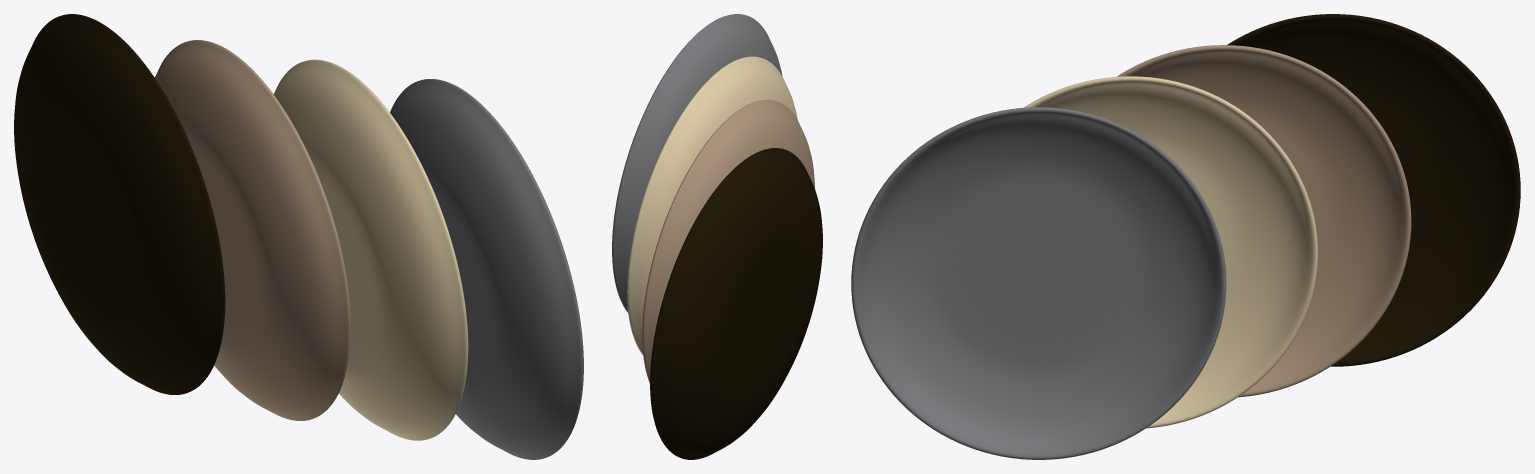
File: single-products-miveh-19.glb
The picture shows the model from 3 angles, left to right: view 1: azimuth 30°, elevation 25°; view 2: azimuth 150°, elevation 25°; view 3: azimuth 270°, elevation 25°; orthographic projection. The views are drawn at different scales.
Parts seen in each view (by area): view 1: Circle.003, Circle.002, Circle.004, Circle.001; view 2: Circle.003, Circle.004, Circle.001, Circle.002; view 3: Circle.001, Circle.003, Circle.002, Circle.004.
Boxes of the visible parts, <box> form: Circle.003: <box>14,14,225,394</box>; Circle.002: <box>154,40,350,420</box>; Circle.004: <box>273,59,468,440</box>; Circle.001: <box>390,79,583,459</box>; Circle.003: <box>650,148,822,459</box>; Circle.004: <box>627,56,797,355</box>; Circle.001: <box>612,14,782,312</box>; Circle.002: <box>642,99,814,383</box>; Circle.001: <box>851,107,1226,459</box>; Circle.003: <box>1227,14,1520,366</box>; Circle.002: <box>1117,45,1411,397</box>; Circle.004: <box>1024,76,1317,428</box>.
Size of the model in its own units: 0.151 by 0.1942 by 0.3479.
